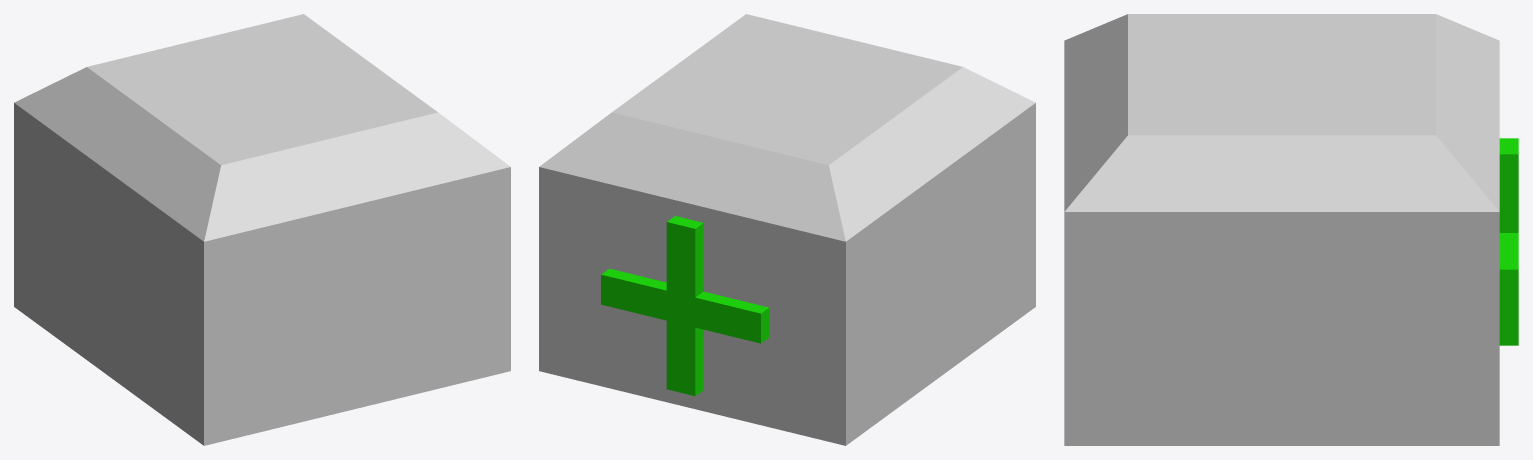
File: aid_kit.fbx
3 views of the same model, side by side, from view 1: azimuth 30°, elevation 25°; view 2: azimuth 150°, elevation 25°; view 3: azimuth 270°, elevation 25° (orthographic). The views are drawn at different scales.
Parts seen in each view (by area): view 1: 큐브.001; view 2: 큐브.001, 큐브; view 3: 큐브.001, 큐브.
Boxes of the visible parts, bbox=[...] form: 큐브.001: bbox=[14, 14, 510, 445]; 큐브.001: bbox=[539, 14, 1035, 445]; 큐브: bbox=[601, 216, 769, 396]; 큐브.001: bbox=[1064, 14, 1499, 445]; 큐브: bbox=[1499, 138, 1518, 345].
Size of the model in its own units: 303 by 236 by 340.
